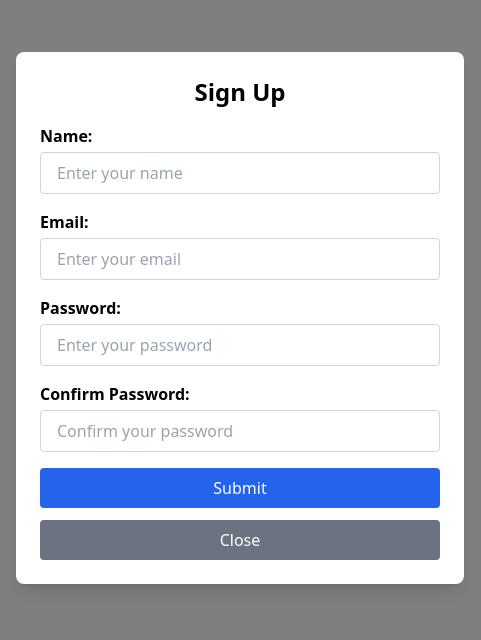
Test case: SignUp Component › shows mismatch password error
In the password field with placeholder "Enter your password": (240,345) [40,324,440,366], type "123456"
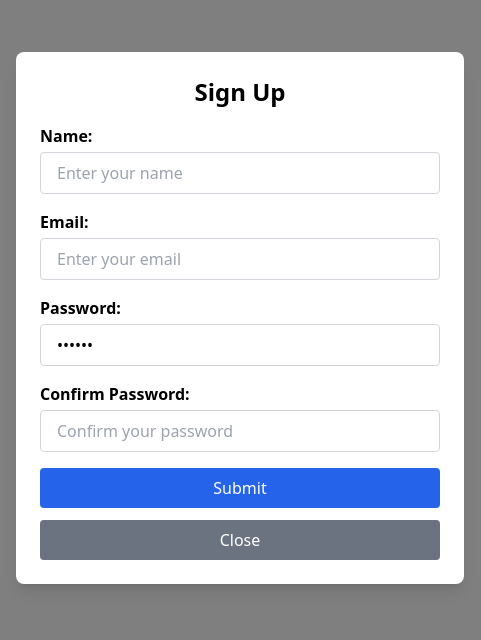
In the password field with placeholder "Confirm your password": (240,431) [40,410,440,452], type "654321"
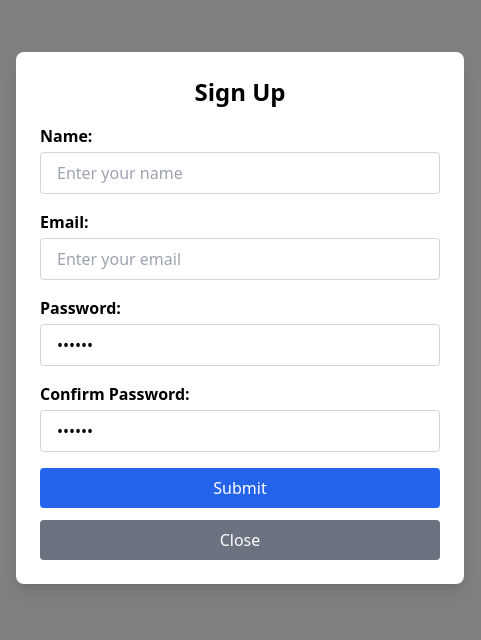
Click the button "Submit": (240,488) [40,468,440,508]
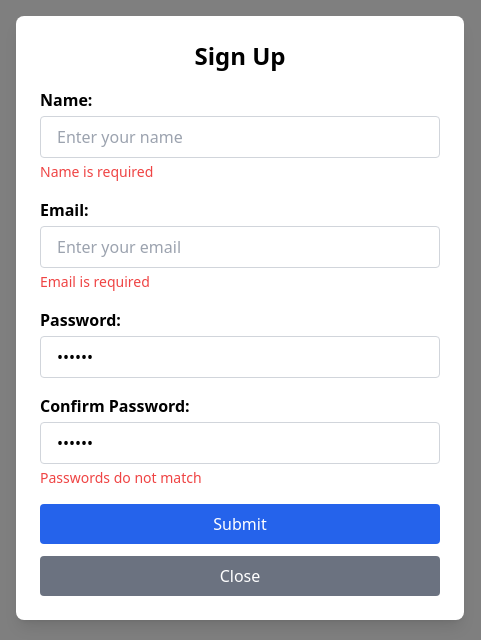
expect the text "Passwords do not match" is shown: met, box [40,468,202,487]
